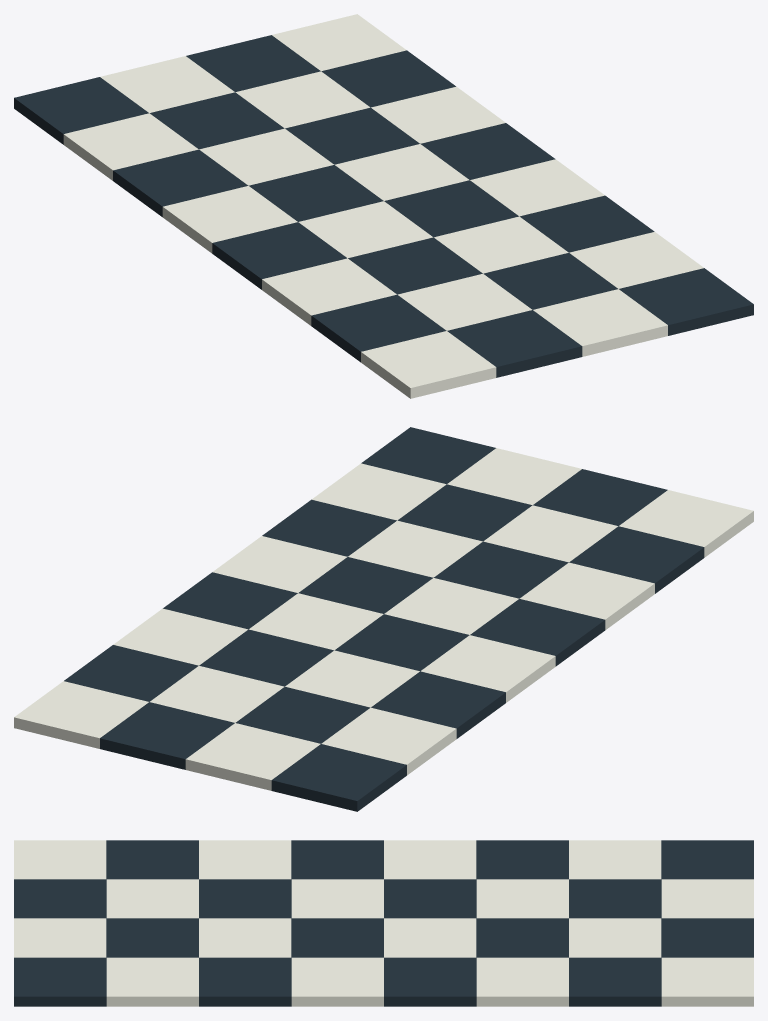
The model's file is scendance-plan-chequered-rect.glb.
3 renders of one model, top to bottom at view 1: azimuth 30°, elevation 25°; view 2: azimuth 150°, elevation 25°; view 3: azimuth 270°, elevation 25°, orthographic. The views are drawn at different scales.
Size of the model in its own units: 1 by 0.03 by 2.
